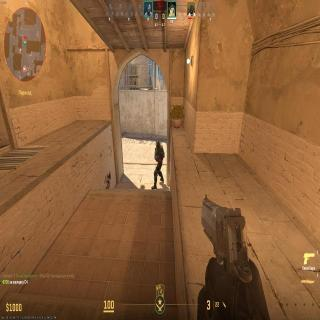CT-Body: (151, 140, 166, 188)
CT-Head: (154, 140, 162, 150)
